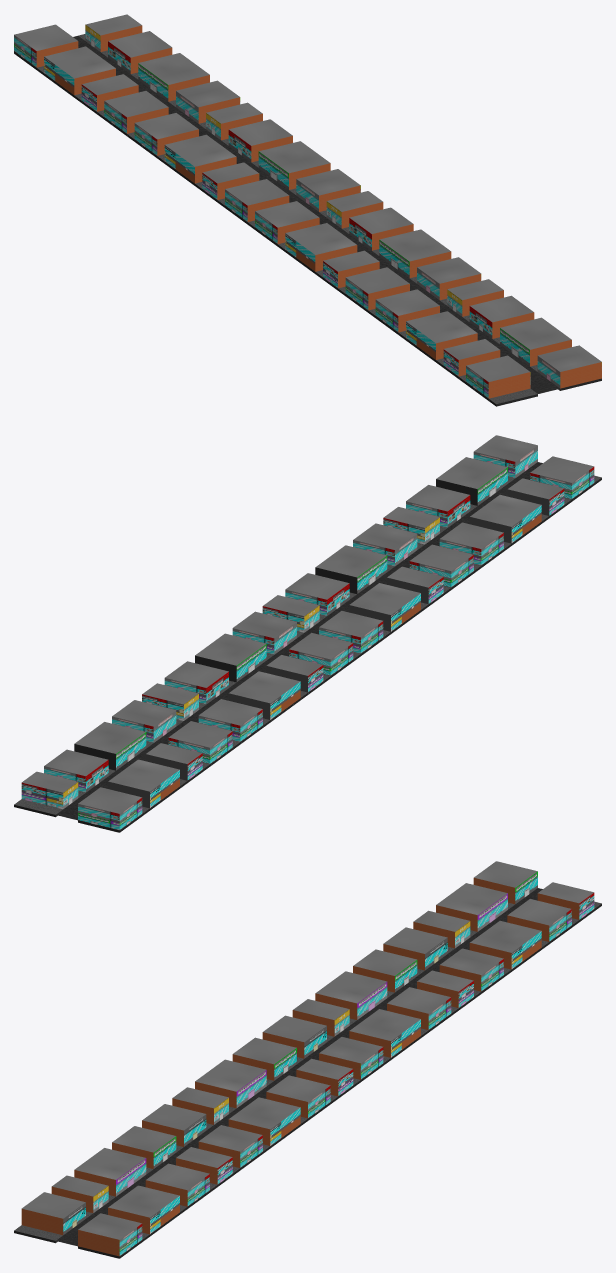
File: shoppingdist.fbx
3 renders of one model, top to bottom at view 1: azimuth 30°, elevation 25°; view 2: azimuth 150°, elevation 25°; view 3: azimuth 330°, elevation 25°, orthographic.
Parts seen in each view (by area): view 1: Cylinder.002; view 2: Cylinder.002; view 3: Cylinder.002.
Part boxes in pixels (x1,y1,x2,y2): Cylinder.002: [14, 14, 601, 406]; Cylinder.002: [14, 435, 601, 832]; Cylinder.002: [14, 861, 601, 1258].
Bounding box in the file's own units: 5063 × 874 × 40000.
